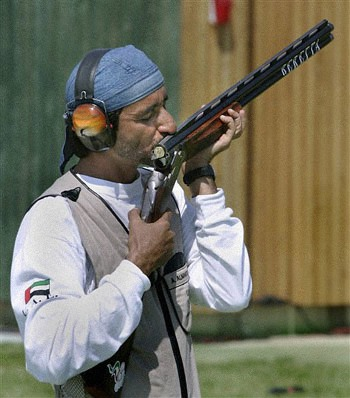face: (108, 79, 172, 173)
